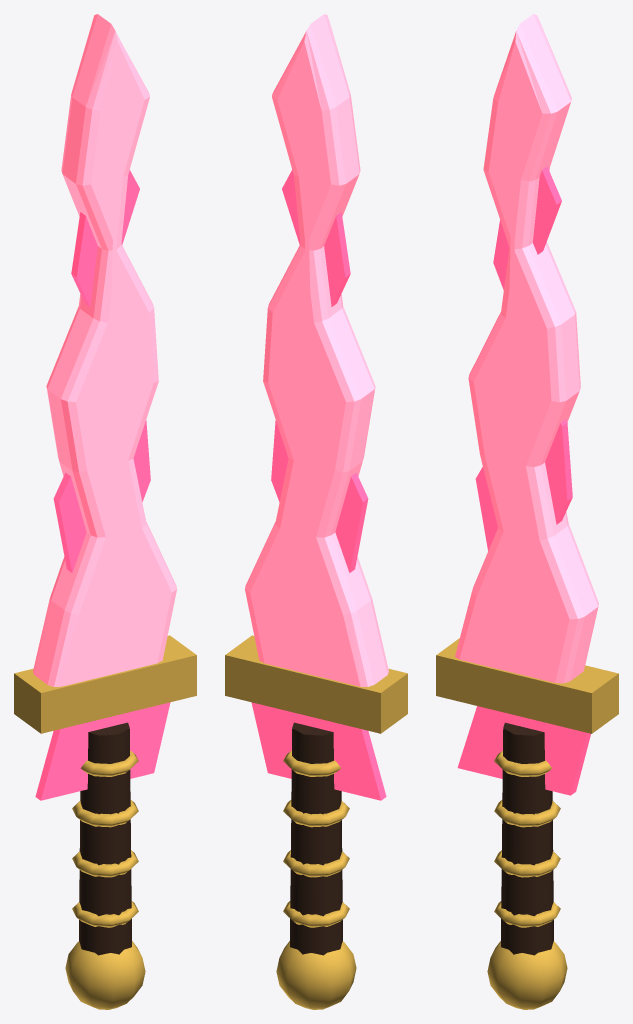
File: dagger_f2_43b951e1.glb
3 renders of one model, left to right at view 1: azimuth 30°, elevation 25°; view 2: azimuth 150°, elevation 25°; view 3: azimuth 330°, elevation 25°, orthographic.
Visible parts, largest first — view 1: m1_ow80_, m3_ow80_, m0_gm130_, m2_ow80_; view 2: m1_ow80_, m3_ow80_, m0_gm130_, m2_ow80_; view 3: m1_ow80_, m3_ow80_, m0_gm130_, m2_ow80_.
Part boxes in pixels (bbox=[...]): m1_ow80_: bbox=[33, 14, 176, 686]; m3_ow80_: bbox=[14, 635, 196, 1009]; m0_gm130_: bbox=[35, 170, 170, 800]; m2_ow80_: bbox=[79, 722, 131, 955]; m1_ow80_: bbox=[245, 14, 388, 686]; m3_ow80_: bbox=[225, 635, 407, 1009]; m0_gm130_: bbox=[251, 170, 386, 800]; m2_ow80_: bbox=[290, 722, 342, 955]; m1_ow80_: bbox=[455, 14, 598, 683]; m3_ow80_: bbox=[436, 638, 618, 1009]; m0_gm130_: bbox=[457, 166, 590, 795]; m2_ow80_: bbox=[501, 722, 553, 955].
Size of the model in its own units: 0.2 by 1.21 by 0.0852.
